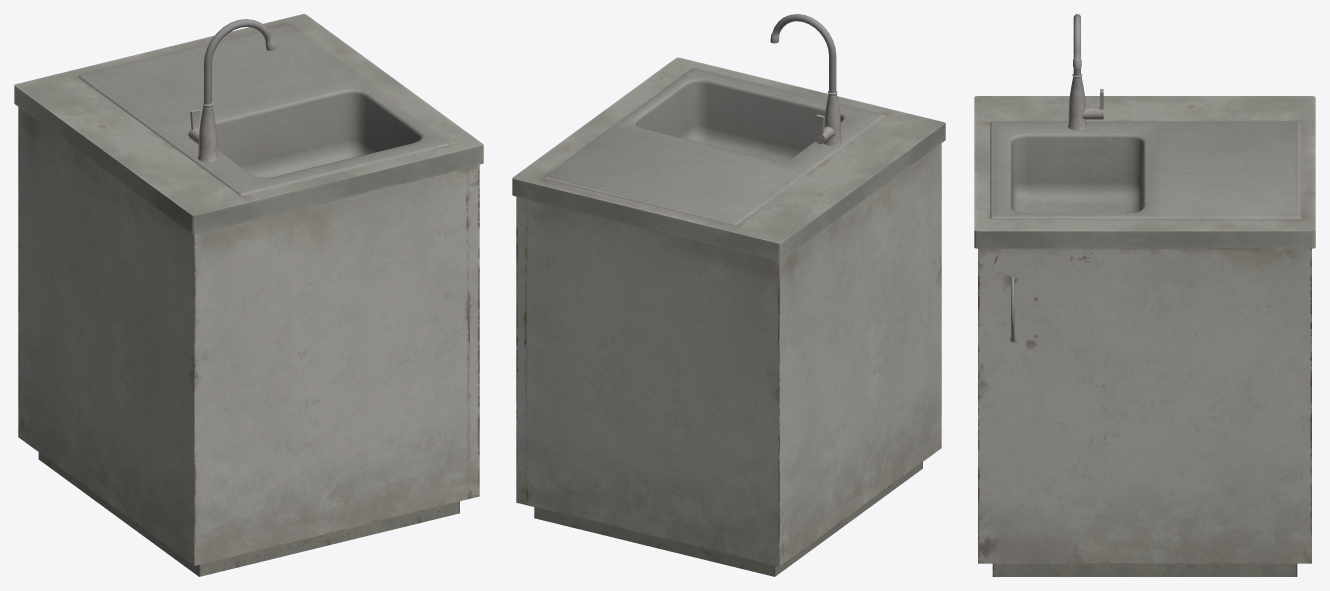
The model's file is kitchen_counter_with_sink.obj.
The picture shows the model from 3 angles, left to right: view 1: azimuth 30°, elevation 25°; view 2: azimuth 150°, elevation 25°; view 3: azimuth 270°, elevation 25°; orthographic projection. The views are drawn at different scales.
Visible parts, largest first — view 1: defaultMaterial, defaultMaterial_1, defaultMaterial_2; view 2: defaultMaterial, defaultMaterial_1, defaultMaterial_2; view 3: defaultMaterial, defaultMaterial_1, defaultMaterial_2.
Part boxes in pixels (bbox=[...]): defaultMaterial: bbox=[14, 14, 483, 576]; defaultMaterial_1: bbox=[78, 25, 449, 195]; defaultMaterial_2: bbox=[188, 19, 275, 162]; defaultMaterial: bbox=[512, 57, 945, 576]; defaultMaterial_1: bbox=[543, 68, 885, 225]; defaultMaterial_2: bbox=[770, 14, 841, 146]; defaultMaterial: bbox=[974, 96, 1315, 576]; defaultMaterial_1: bbox=[990, 121, 1301, 219]; defaultMaterial_2: bbox=[1068, 14, 1103, 130].
Bounding box in the file's own units: 1.26 × 2 × 1.29.
Materials: 1 (1 with a texture image).
